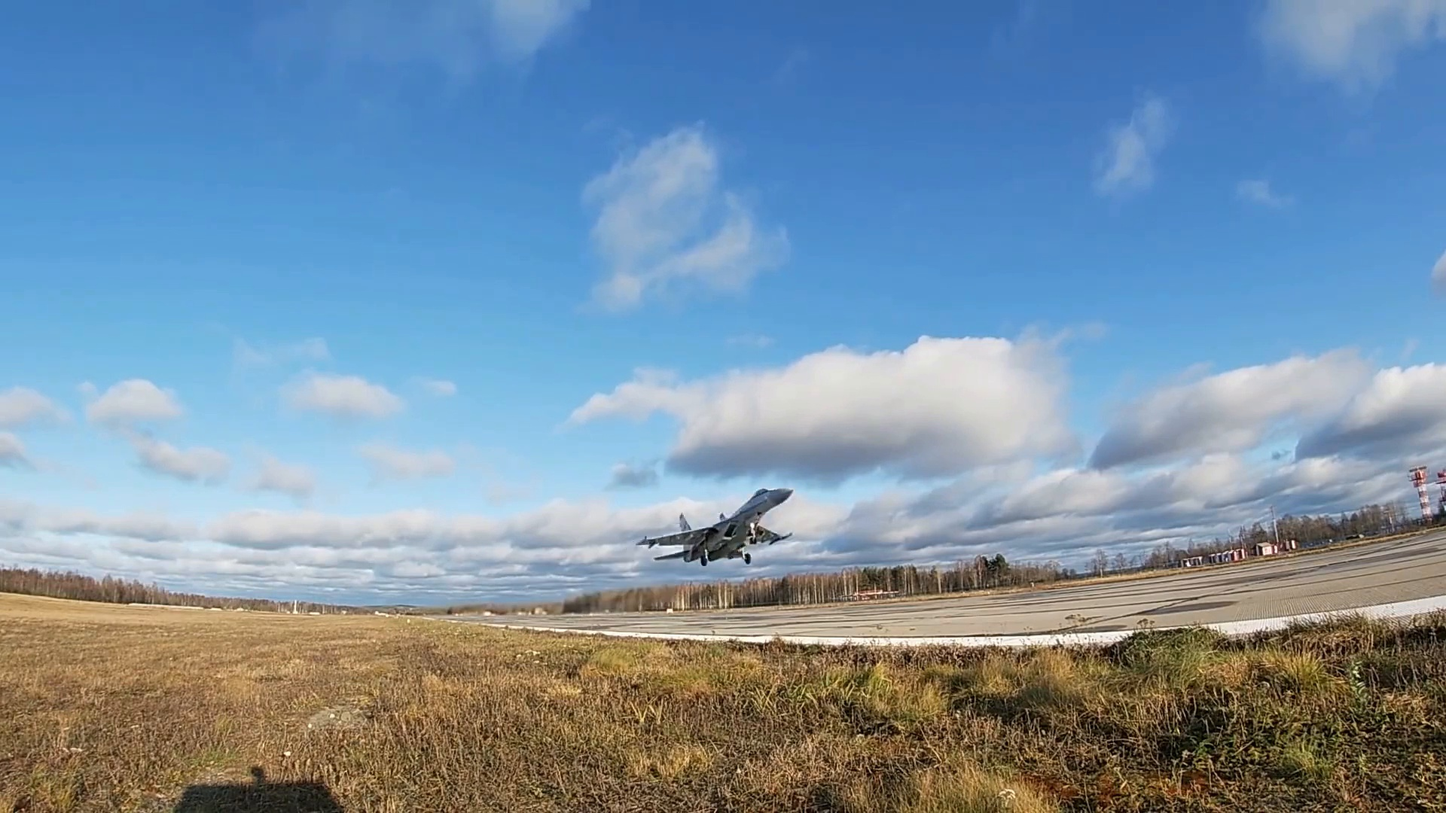Su35: (636, 486, 794, 565)
